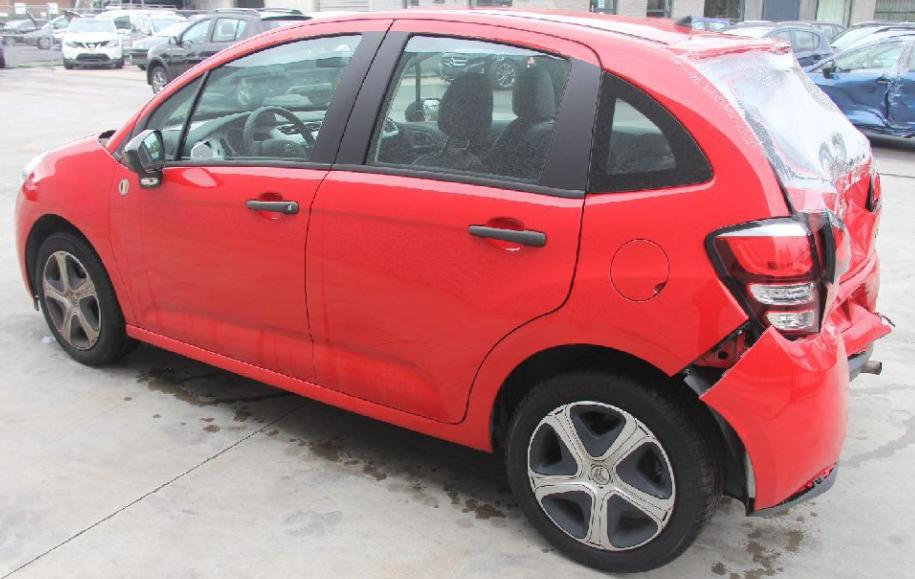Back-bumper: (701, 248, 895, 514)
Back-door: (306, 21, 601, 421)
Back-wheel: (506, 367, 725, 573)
Back-window: (365, 36, 569, 182), (607, 97, 676, 175)
Back-windshield: (691, 52, 874, 188)
Fender: (16, 134, 138, 325)
Front-door: (107, 21, 394, 384)
Front-wheel: (35, 233, 134, 365)
Front-window: (138, 35, 361, 160)
Headlight: (20, 149, 49, 180)
Mirror: (122, 128, 165, 188)
Quarter-panel: (461, 177, 788, 429)
Roof: (379, 8, 710, 43)
Tail-light: (711, 219, 824, 334)
Trunk: (670, 30, 881, 282)
